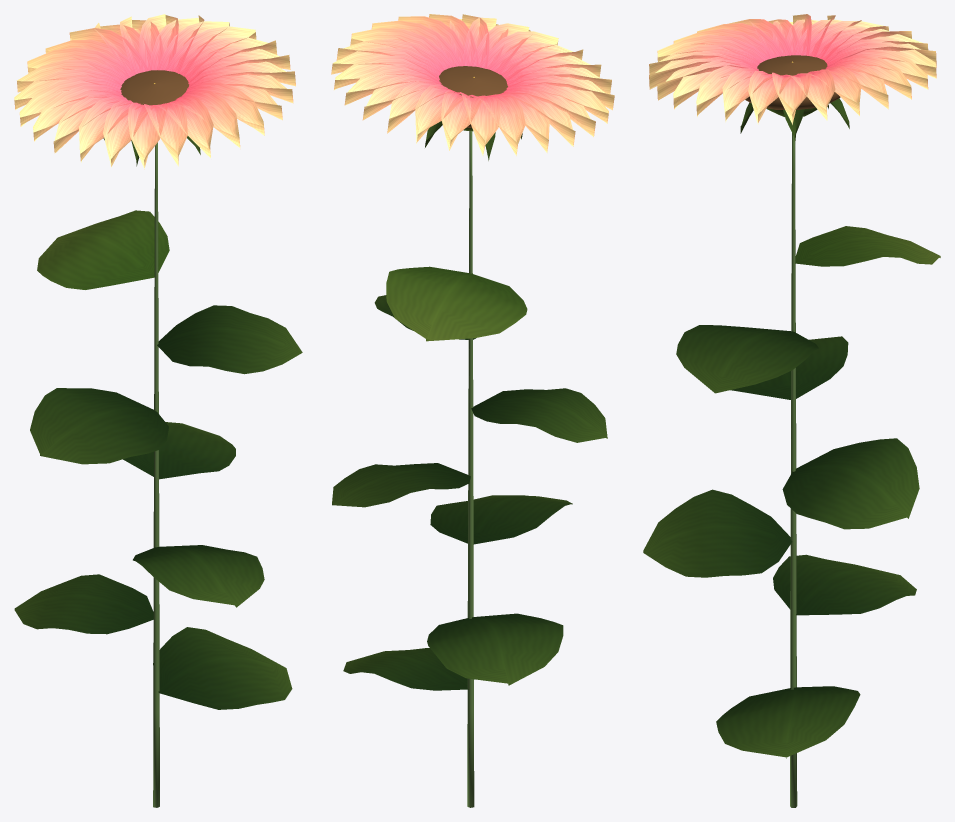
Rendered from sunflower-dream-10-lod.glb.
The picture shows the model from 3 angles, left to right: view 1: azimuth 30°, elevation 25°; view 2: azimuth 150°, elevation 25°; view 3: azimuth 270°, elevation 25°; orthographic projection. The views are drawn at different scales.
Visible parts, largest first — view 1: sunflower_dream_stage_10_leaf_veins.021, sunflower_dream_stage_10_sunflower_petal.021, sunflower_dream_stage_10_young_leaf.021, sunflower_dream_stage_10_stem_fibres.021, sunflower_dream_stage_10_receptacle.021; view 2: sunflower_dream_stage_10_sunflower_petal.021, sunflower_dream_stage_10_leaf_veins.021, sunflower_dream_stage_10_young_leaf.021, sunflower_dream_stage_10_stem_fibres.021, sunflower_dream_stage_10_receptacle.021; view 3: sunflower_dream_stage_10_leaf_veins.021, sunflower_dream_stage_10_sunflower_petal.021, sunflower_dream_stage_10_young_leaf.021, sunflower_dream_stage_10_stem_fibres.021, sunflower_dream_stage_10_receptacle.021.
Boxes of the visible parts, x1,y1,x2,y2 form: sunflower_dream_stage_10_leaf_veins.021: (14, 136, 302, 709); sunflower_dream_stage_10_sunflower_petal.021: (14, 14, 295, 169); sunflower_dream_stage_10_young_leaf.021: (37, 210, 169, 289); sunflower_dream_stage_10_stem_fibres.021: (153, 142, 159, 807); sunflower_dream_stage_10_receptacle.021: (120, 70, 189, 105); sunflower_dream_stage_10_sunflower_petal.021: (331, 14, 614, 155); sunflower_dream_stage_10_leaf_veins.021: (332, 121, 607, 690); sunflower_dream_stage_10_young_leaf.021: (386, 127, 527, 341); sunflower_dream_stage_10_stem_fibres.021: (467, 131, 474, 807); sunflower_dream_stage_10_receptacle.021: (439, 66, 507, 127); sunflower_dream_stage_10_leaf_veins.021: (643, 98, 919, 758); sunflower_dream_stage_10_sunflower_petal.021: (649, 14, 936, 124); sunflower_dream_stage_10_young_leaf.021: (766, 107, 940, 266); sunflower_dream_stage_10_stem_fibres.021: (790, 133, 797, 807); sunflower_dream_stage_10_receptacle.021: (745, 55, 840, 109).
Bounding box in the file's own units: 0.3148 × 0.8876 × 0.3124.
6 materials, 3 textured.
